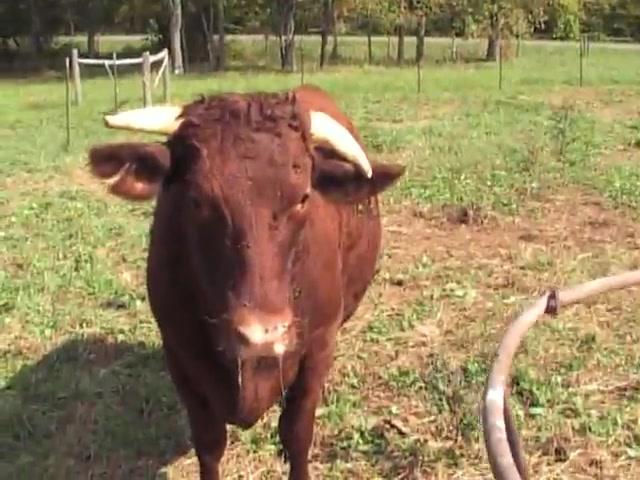cow: (91, 83, 407, 480)
